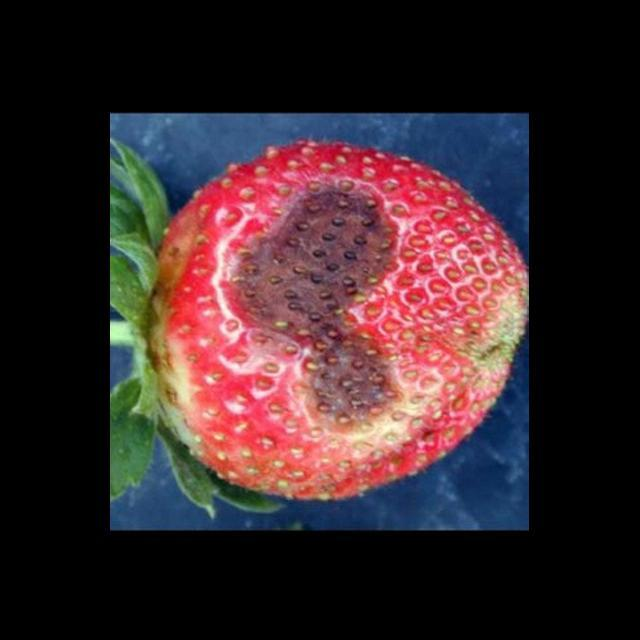Anthracnose Fruit Rot: (225, 179, 403, 441)
